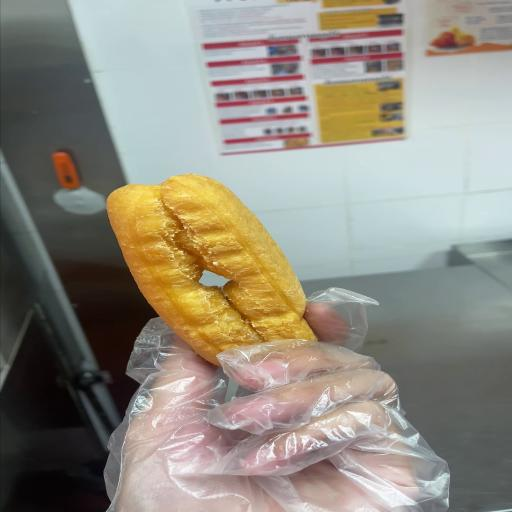brand_golden_defect: (107, 174, 316, 364)
